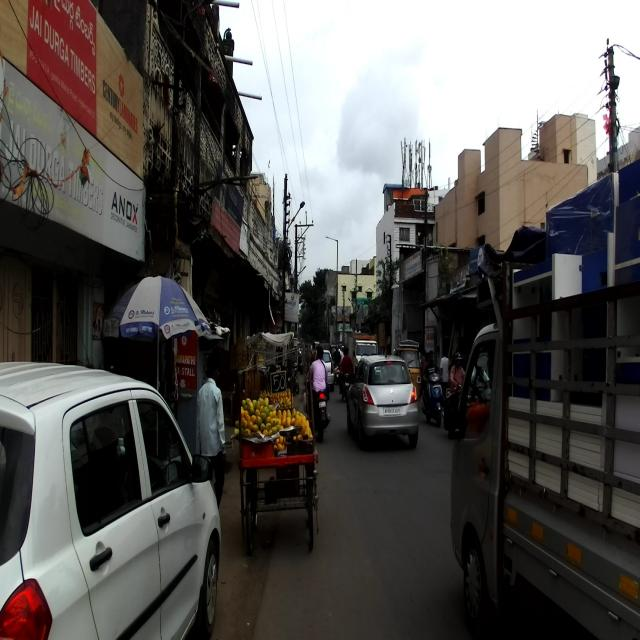Car: (0, 357, 221, 639)
Car_Maruti-Suzuki: (346, 344, 419, 451)
motorcycle_HeroHonda: (303, 380, 331, 442)
scooter: (423, 372, 442, 425)
truck: (442, 154, 640, 638)
